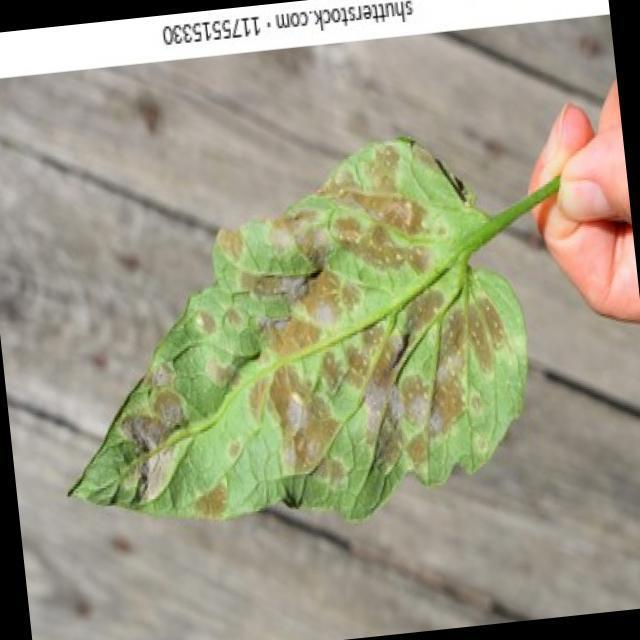Mosaic Virus: (56, 144, 540, 558)
